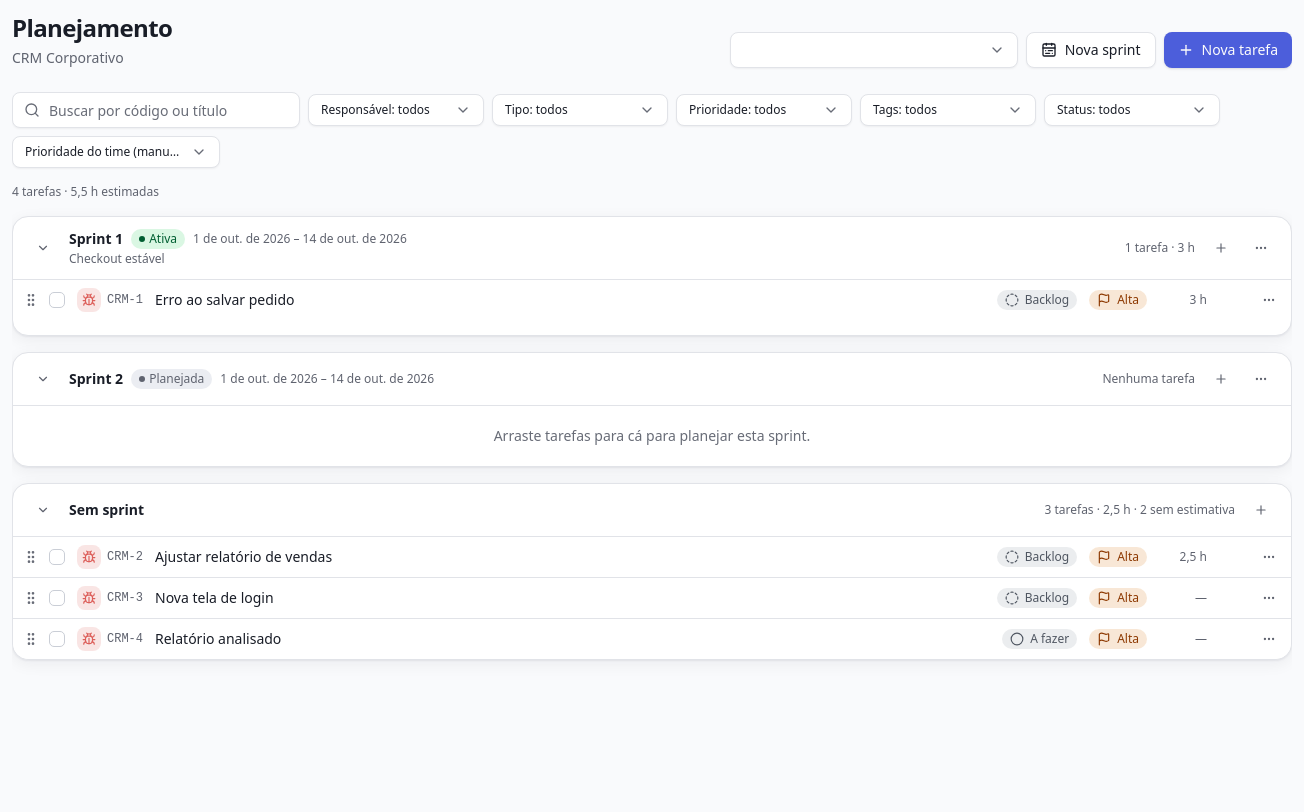
BacklogPage › organizar sprints: subir/descer (ordem para todos) e recolher
Click the button named "Ações da sprint Sprint 1". click: (1261,248)
box: [1247,234,1275,262]
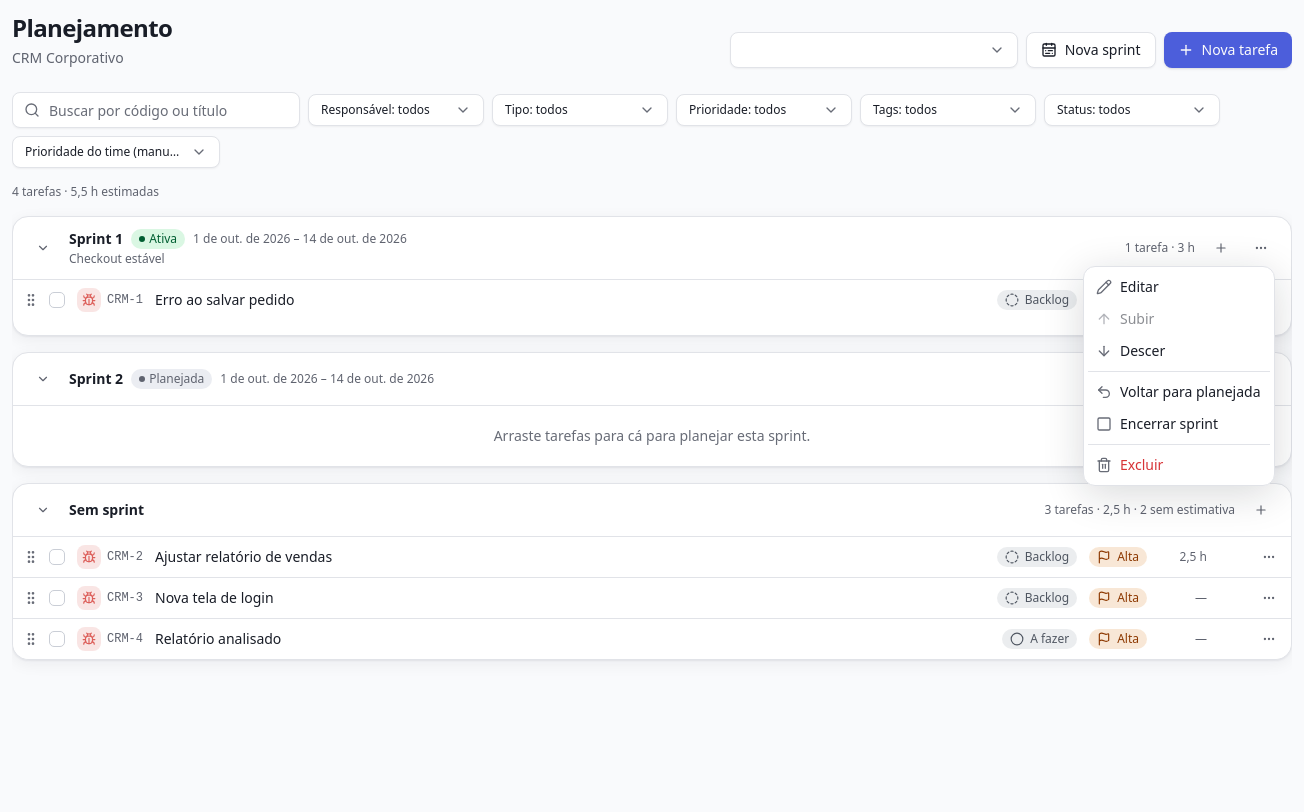
Click the menu item "Descer". click: (1131,350)
box: [1096,341,1165,360]
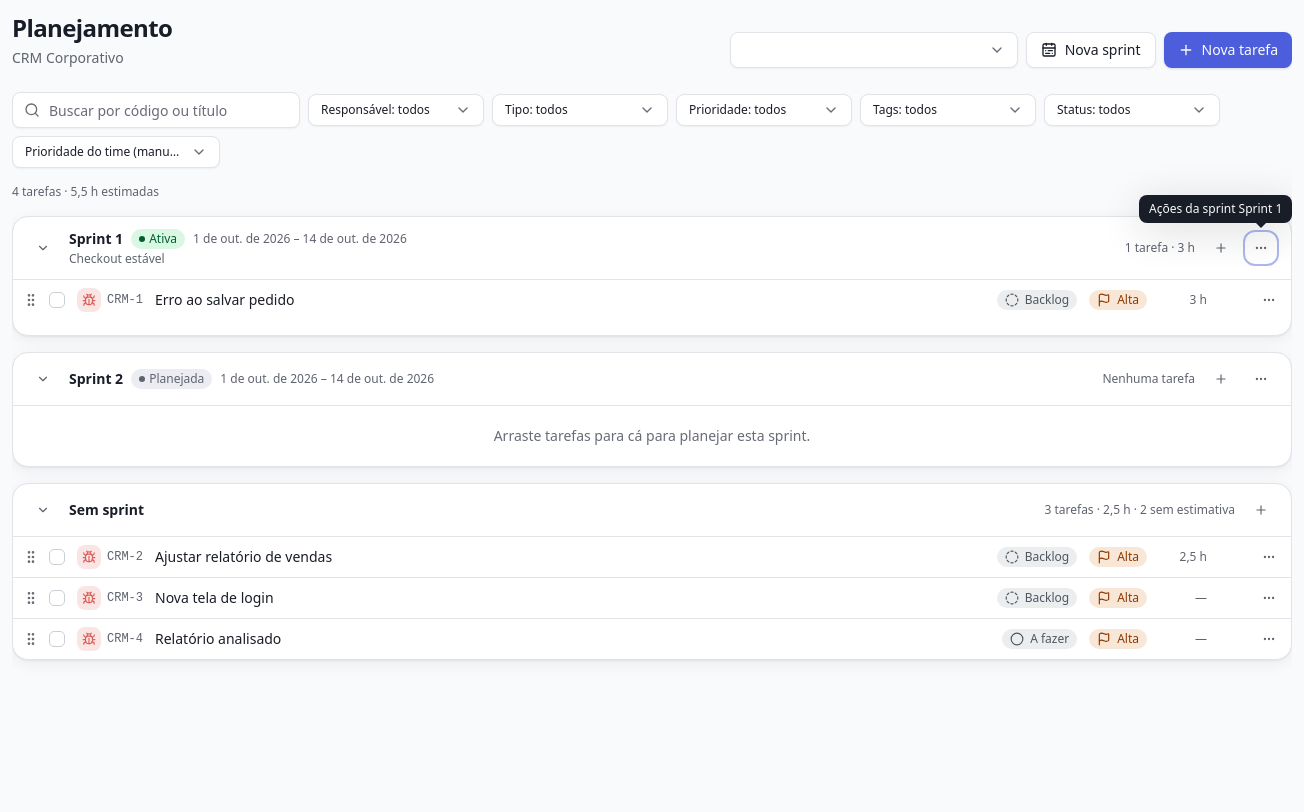
Click the button named "Recolher Sprint 1". click: (43,248)
box: [29,234,57,262]
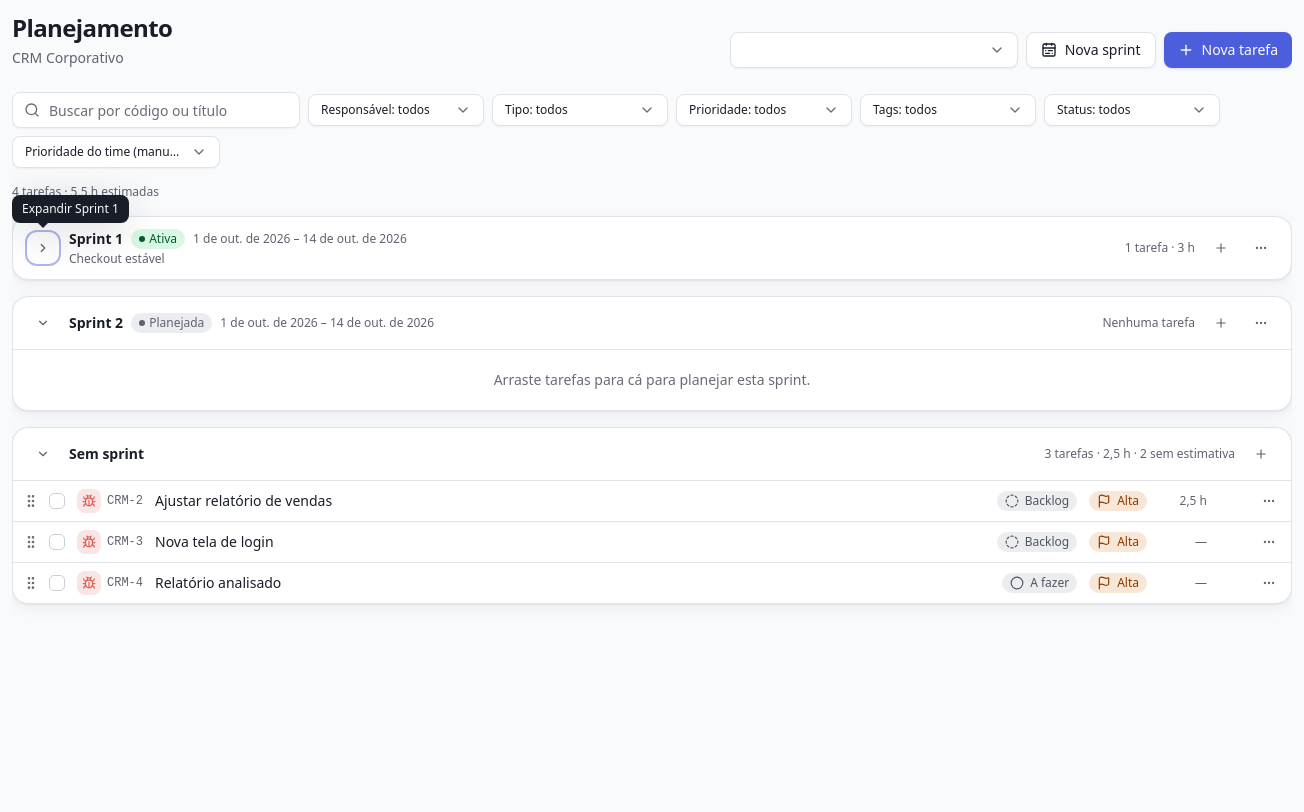
Result: the button "Erro ao salvar pedido" is gone
Result: the button named "Expandir Sprint 1" is collapsed at [29,234,57,262]
